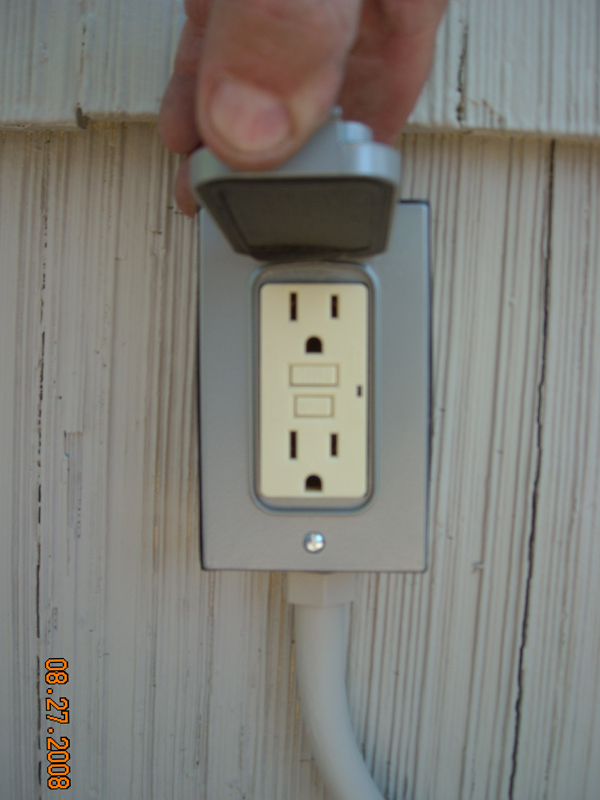outlet: (282, 424, 349, 497), (282, 285, 347, 357)
